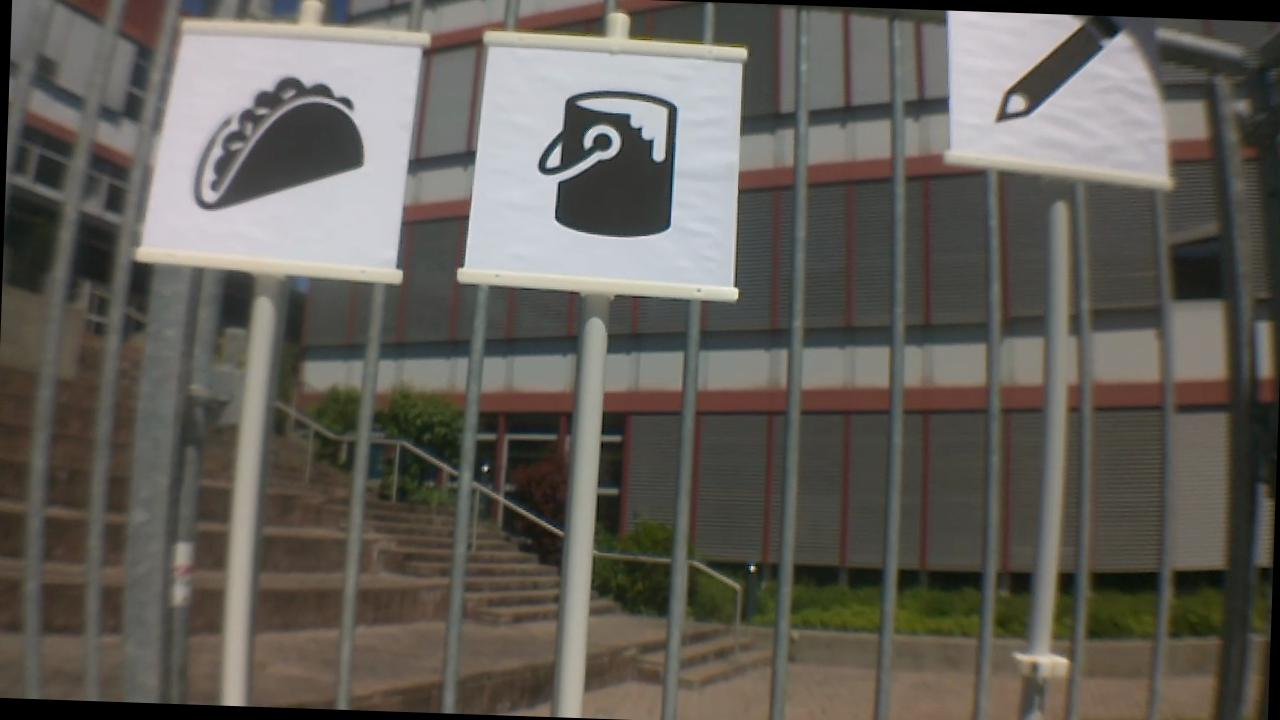bucket: (519, 86, 686, 243)
pencil: (990, 12, 1139, 127)
taco: (180, 69, 379, 221)
